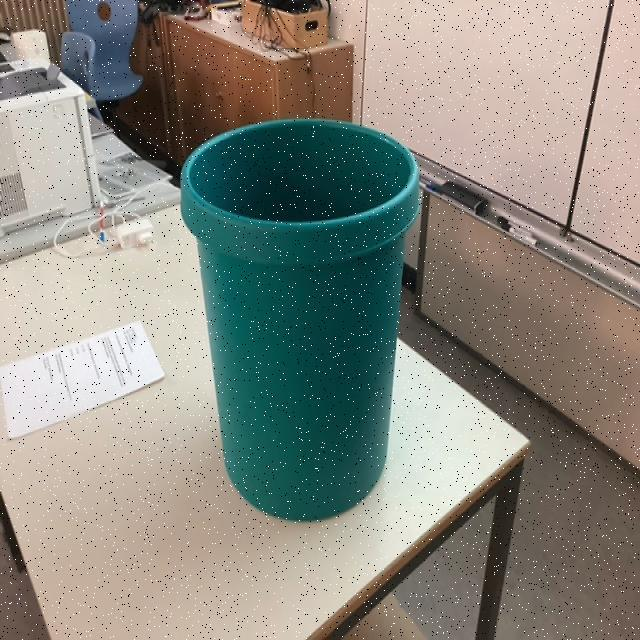garbage container: (169, 108, 445, 524)
